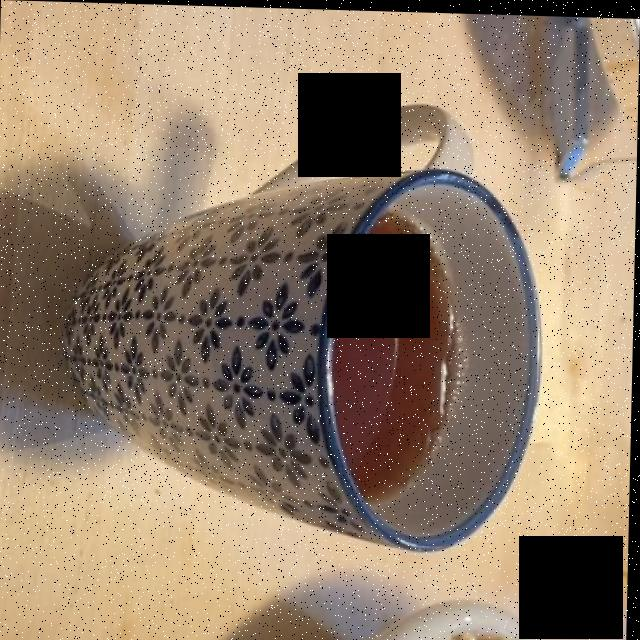tea-black: (332, 216, 461, 494)
